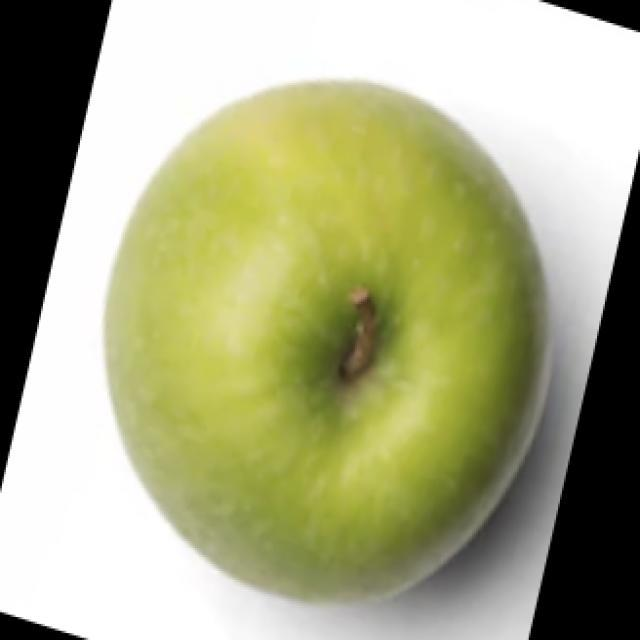Fresh Apple: (122, 91, 595, 602)
